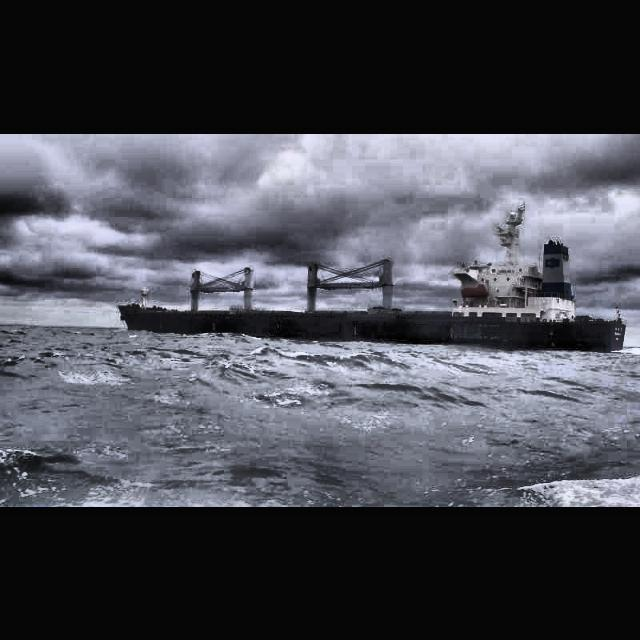bulk_carrier: (117, 204, 627, 352)
